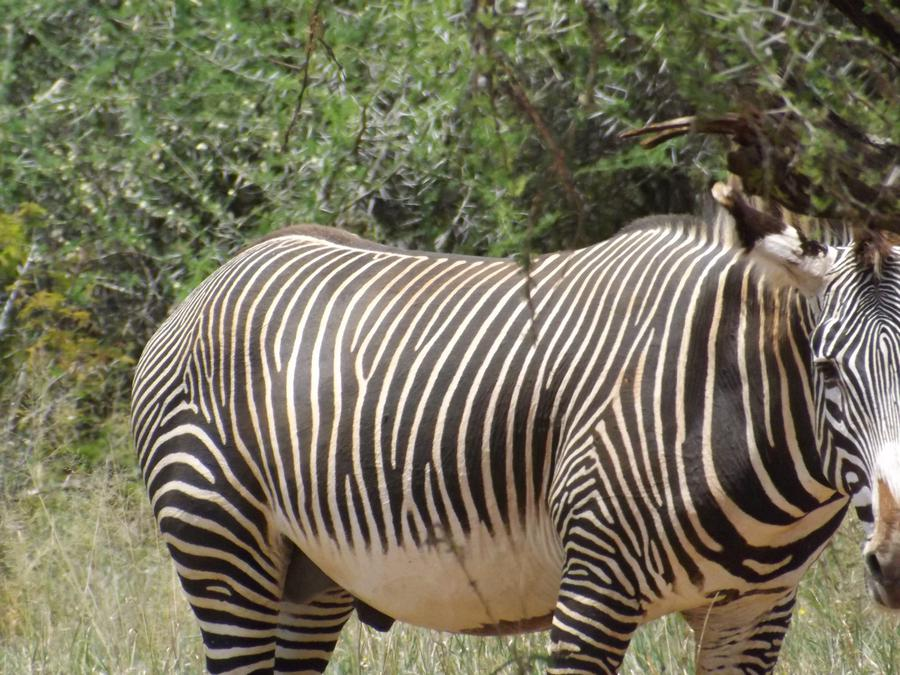zebra_grevys: (123, 195, 717, 602)
